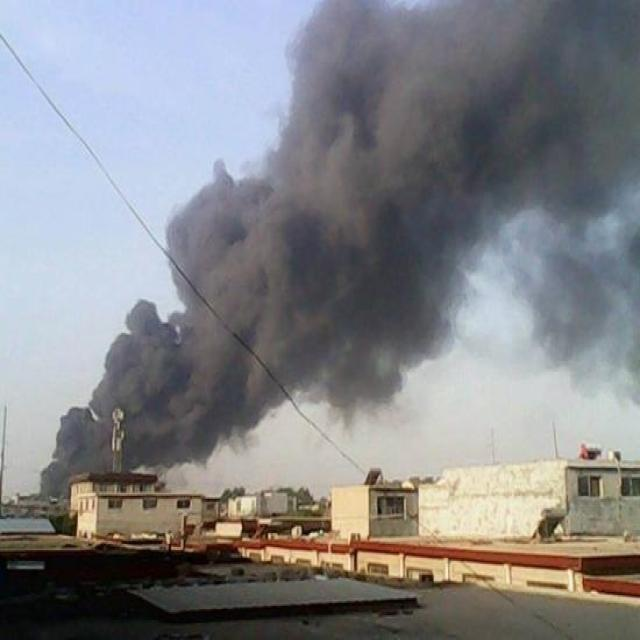Smoke: (38, 1, 640, 498)
